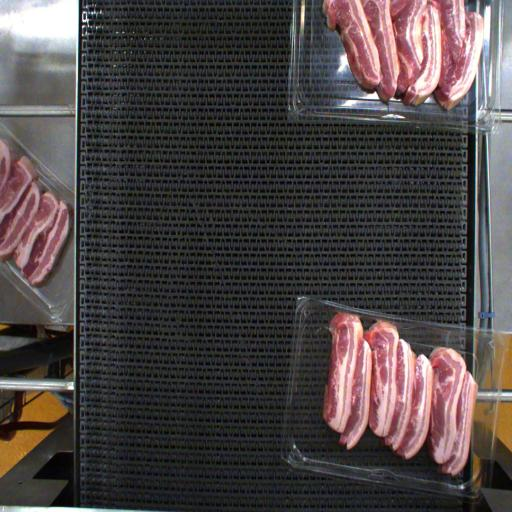packaging-error: (336, 296, 368, 332), (376, 308, 400, 333)
